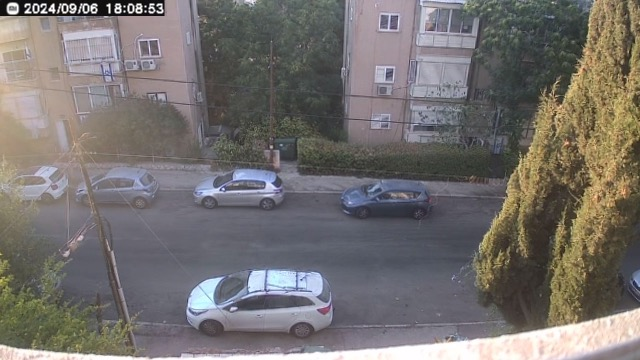empty: (333, 273, 475, 334), (64, 267, 185, 333)
